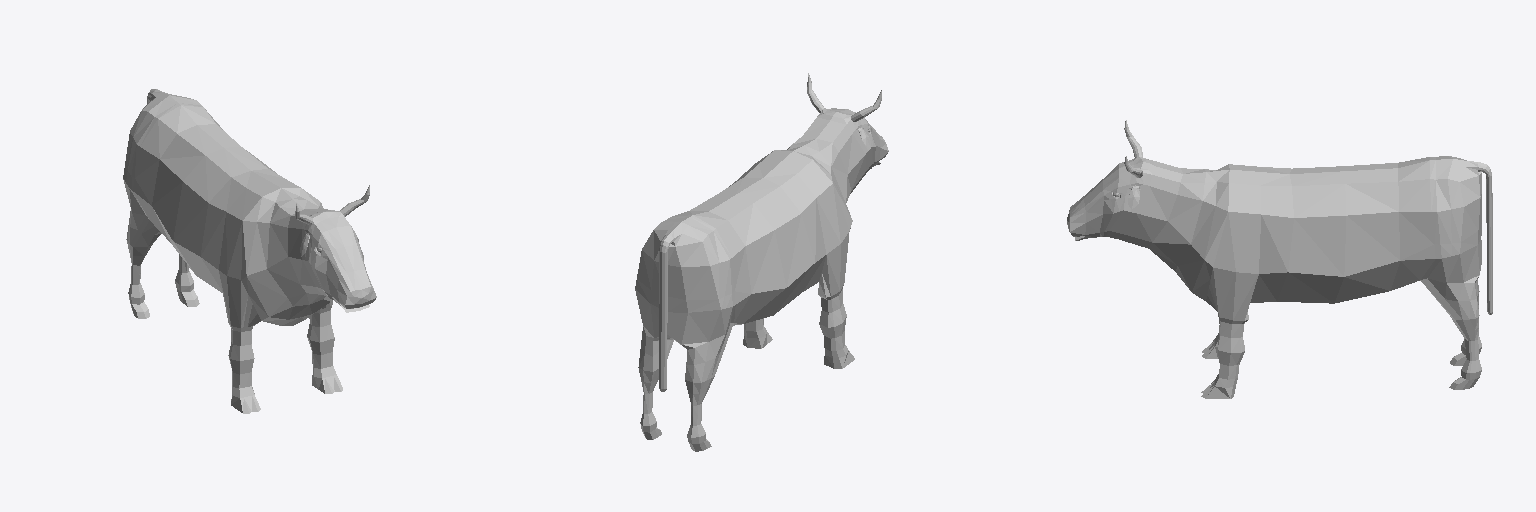
File: 002_BullNew01.obj
3 renders of one model, left to right at view 1: azimuth 30°, elevation 25°; view 2: azimuth 150°, elevation 25°; view 3: azimuth 270°, elevation 25°, orthographic.
Parts seen in each view (by area): view 1: Boi.001; view 2: Boi.001; view 3: Boi.001.
Boxes of the visible parts, <box> form: Boi.001: <box>123,89,376,413</box>; Boi.001: <box>635,73,888,451</box>; Boi.001: <box>1067,120,1492,398</box>.
Size of the model in its own units: 11.97 by 26.54 by 43.02.